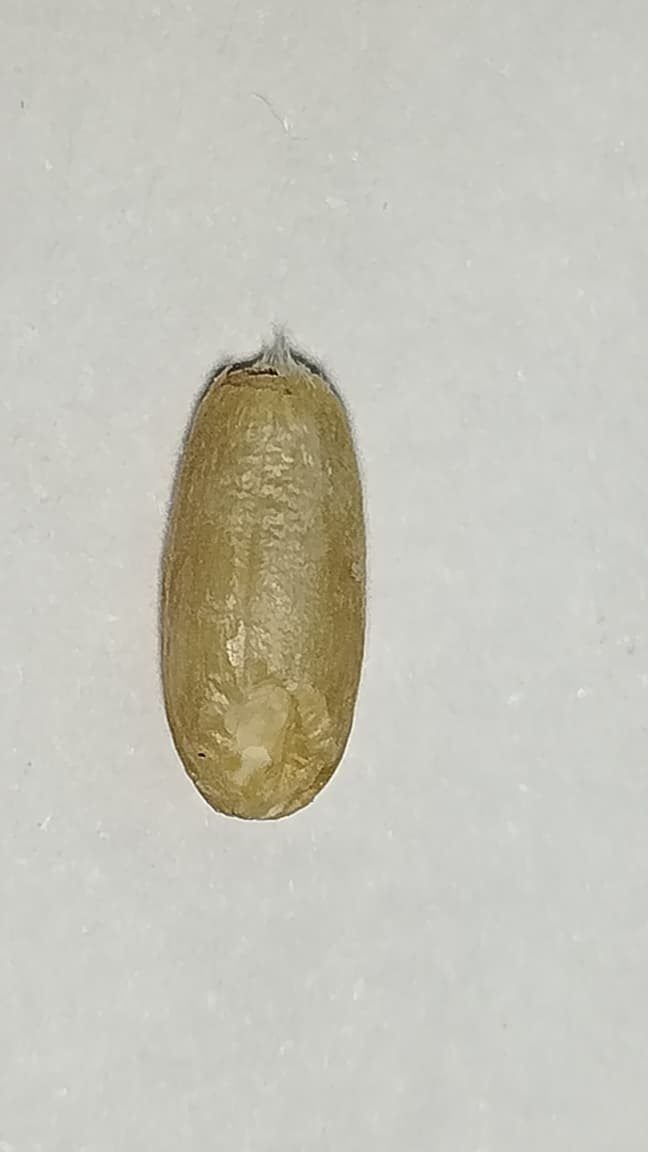healthy: (162, 358, 366, 819)
